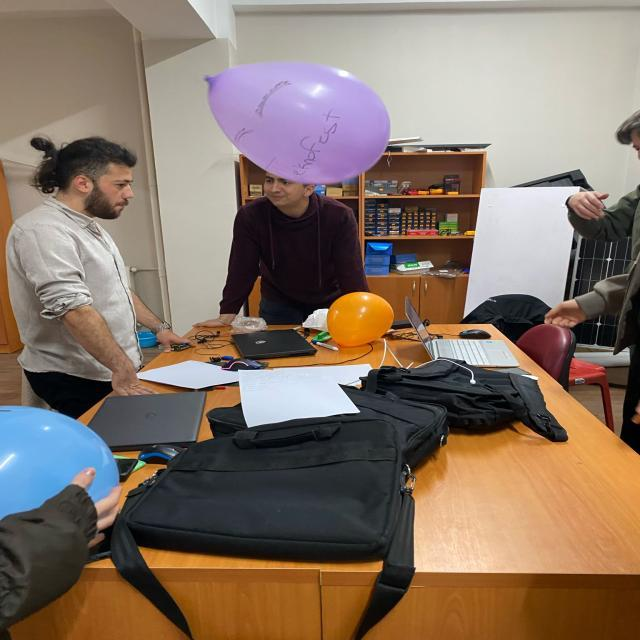balloon: (207, 64, 393, 182), (1, 390, 120, 520), (322, 289, 392, 346)
